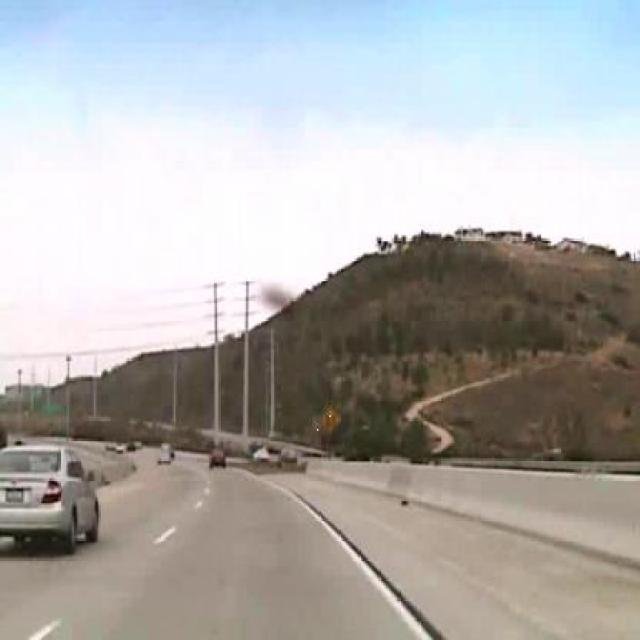addedLane: (317, 403, 341, 433)
